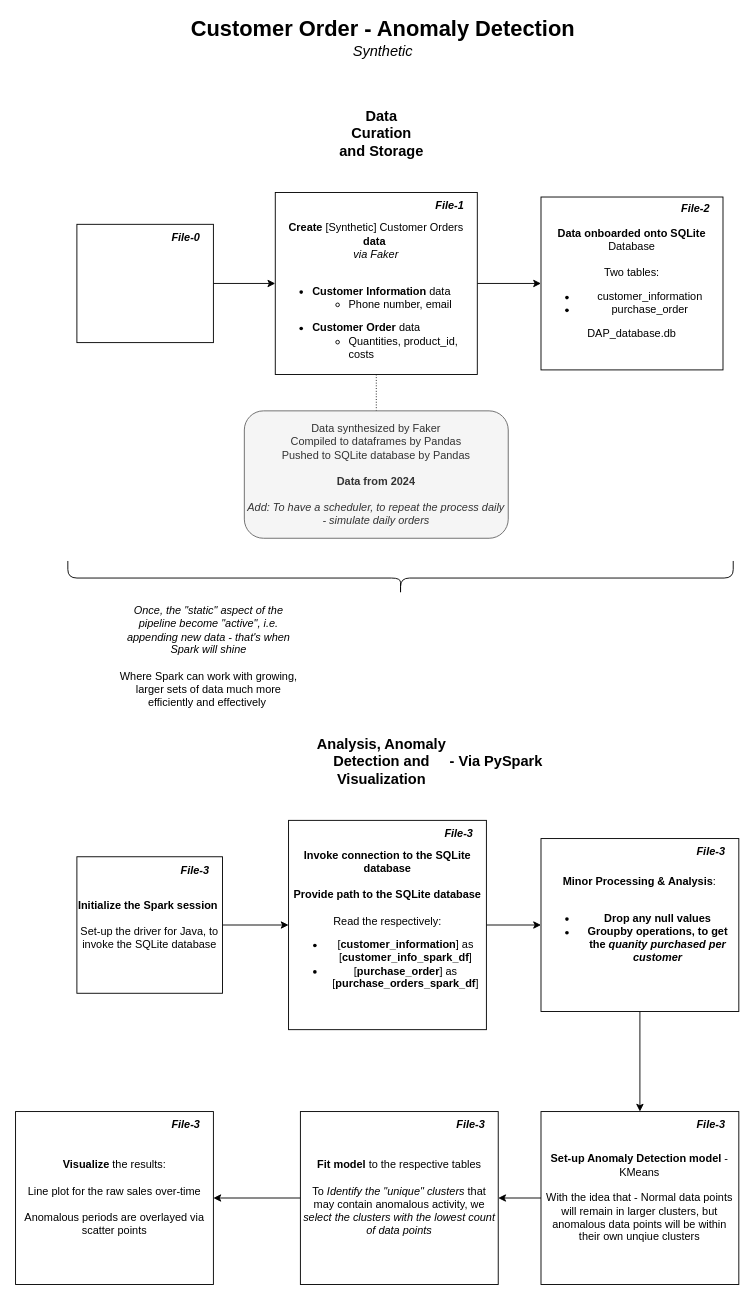
This 755x1300 diagram has some shape labels left out. Each missing label, with the box of its shape:
Create SQLite Database . DAP_database.db: (76, 223, 213, 343)
Static: (67, 560, 733, 595)
